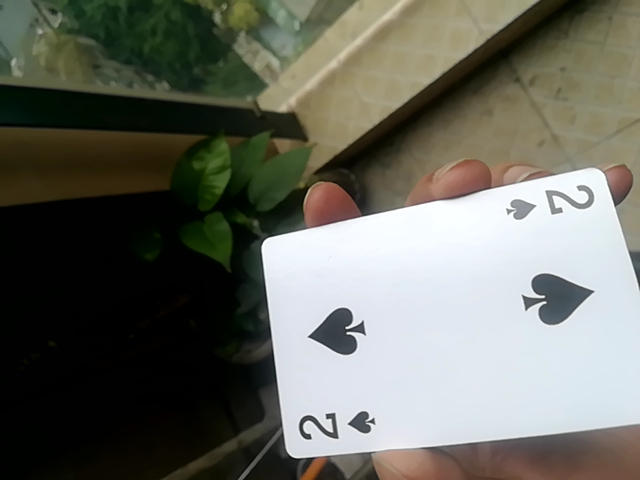ht 2: (260, 168, 640, 465)
